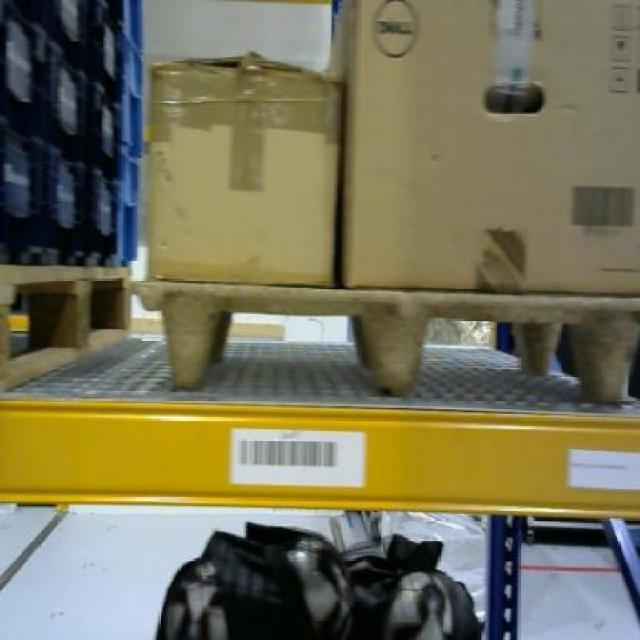box: (338, 0, 638, 286), (139, 51, 339, 284)
